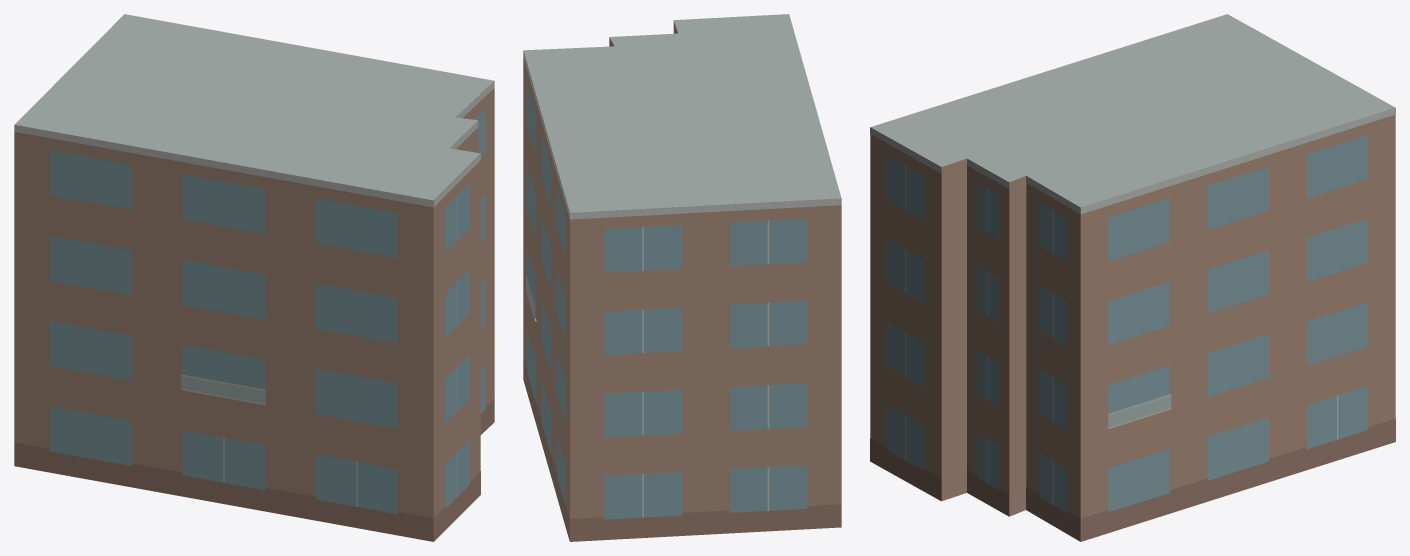
The model's file is survey-upis-32596878.glb.
The picture shows the model from 3 angles, left to right: view 1: azimuth 30°, elevation 25°; view 2: azimuth 150°, elevation 25°; view 3: azimuth 270°, elevation 25°; orthographic projection. The views are drawn at different scales.
Visible parts, largest first — view 1: survey-upis-32596878.tmp; view 2: survey-upis-32596878.tmp; view 3: survey-upis-32596878.tmp.
Boxes of the visible parts, box(x1,y1,x2,y2) form: survey-upis-32596878.tmp: box(14, 14, 494, 541); survey-upis-32596878.tmp: box(523, 14, 841, 541); survey-upis-32596878.tmp: box(870, 14, 1395, 541).
Bounding box in the file's own units: 14.79 × 11.9 × 16.96.
